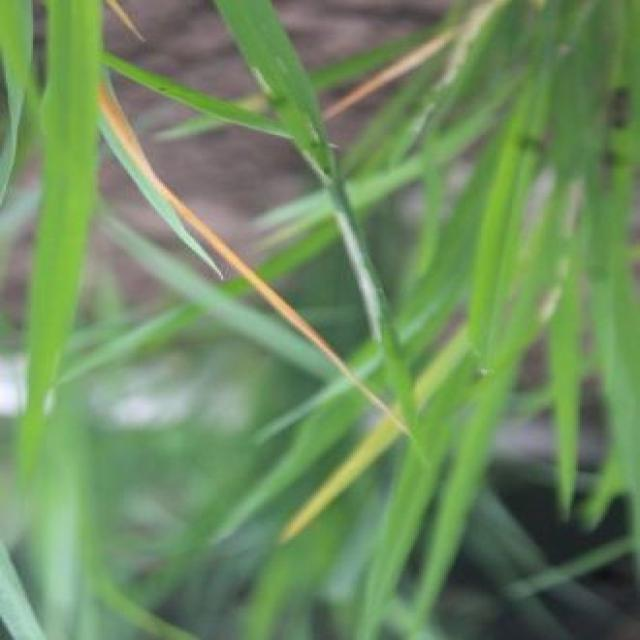Rice Tungro: (211, 226, 290, 306), (122, 108, 188, 203), (355, 58, 400, 121), (318, 327, 353, 368)
